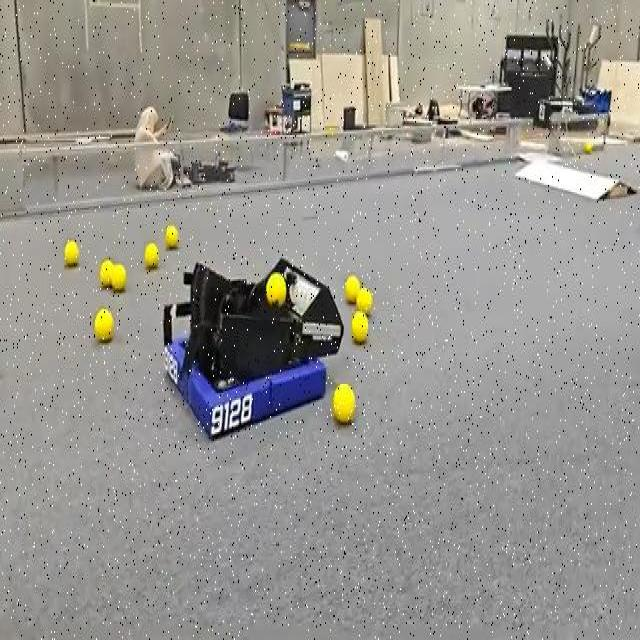Fuel: (332, 384, 355, 423), (266, 272, 286, 306), (266, 273, 286, 307), (94, 308, 113, 342), (351, 311, 367, 343), (344, 275, 361, 303), (356, 288, 372, 315), (111, 264, 127, 291), (111, 263, 126, 290), (64, 240, 78, 267), (144, 242, 158, 268), (99, 260, 113, 286), (345, 276, 359, 302), (144, 243, 158, 268), (165, 224, 178, 247), (583, 142, 593, 154), (584, 142, 592, 153)
